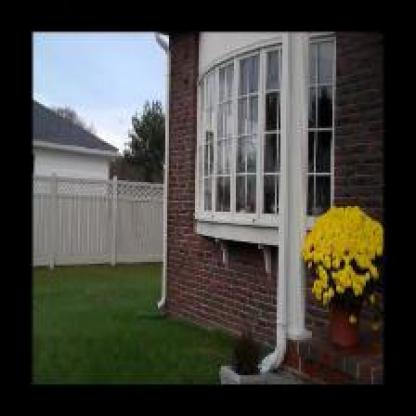other: (299, 197, 388, 351)
